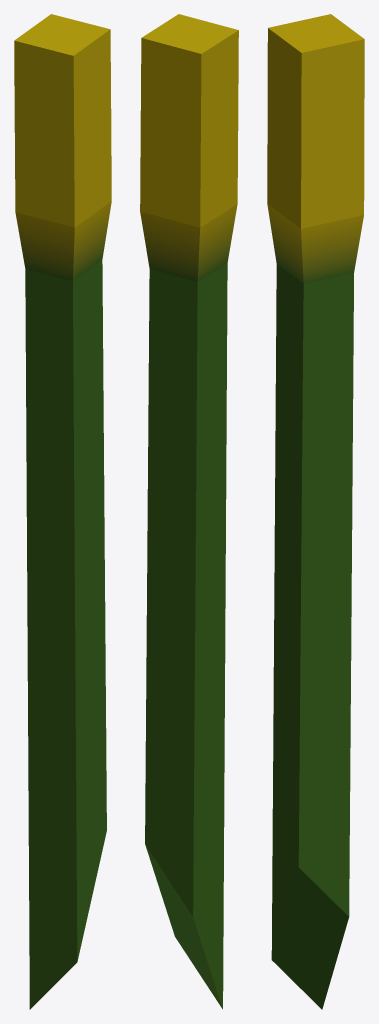
File: Colza_Particle.glb
3 views of the same model, side by side, from view 1: azimuth 30°, elevation 25°; view 2: azimuth 210°, elevation 25°; view 3: azimuth 270°, elevation 25° (orthographic). The views are drawn at different scales.
Parts seen in each view (by area): view 1: Colza_Particle; view 2: Colza_Particle; view 3: Colza_Particle.
Part boxes in pixels (x1,y1,x2,y2): Colza_Particle: [14, 14, 111, 1009]; Colza_Particle: [140, 14, 238, 1009]; Colza_Particle: [267, 14, 364, 1009].
Size of the model in its own units: 0.1095 by 1.22 by 0.1089.
